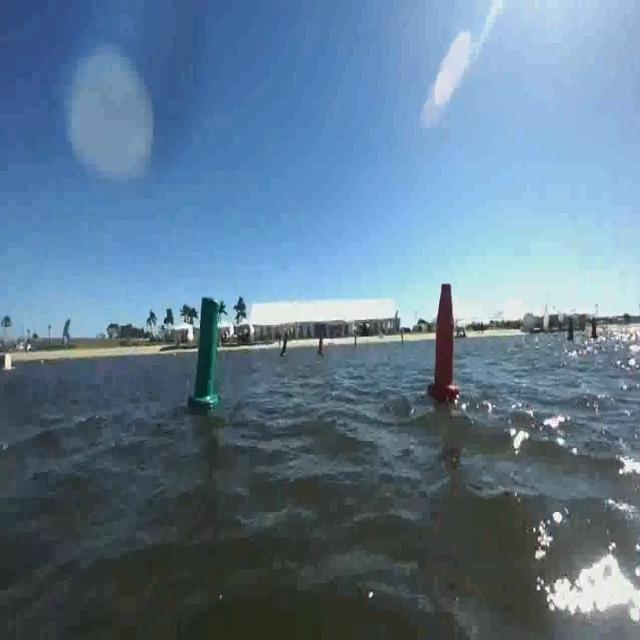green-column-buoy: (190, 295, 222, 410)
red-column-buoy: (430, 279, 460, 401)
